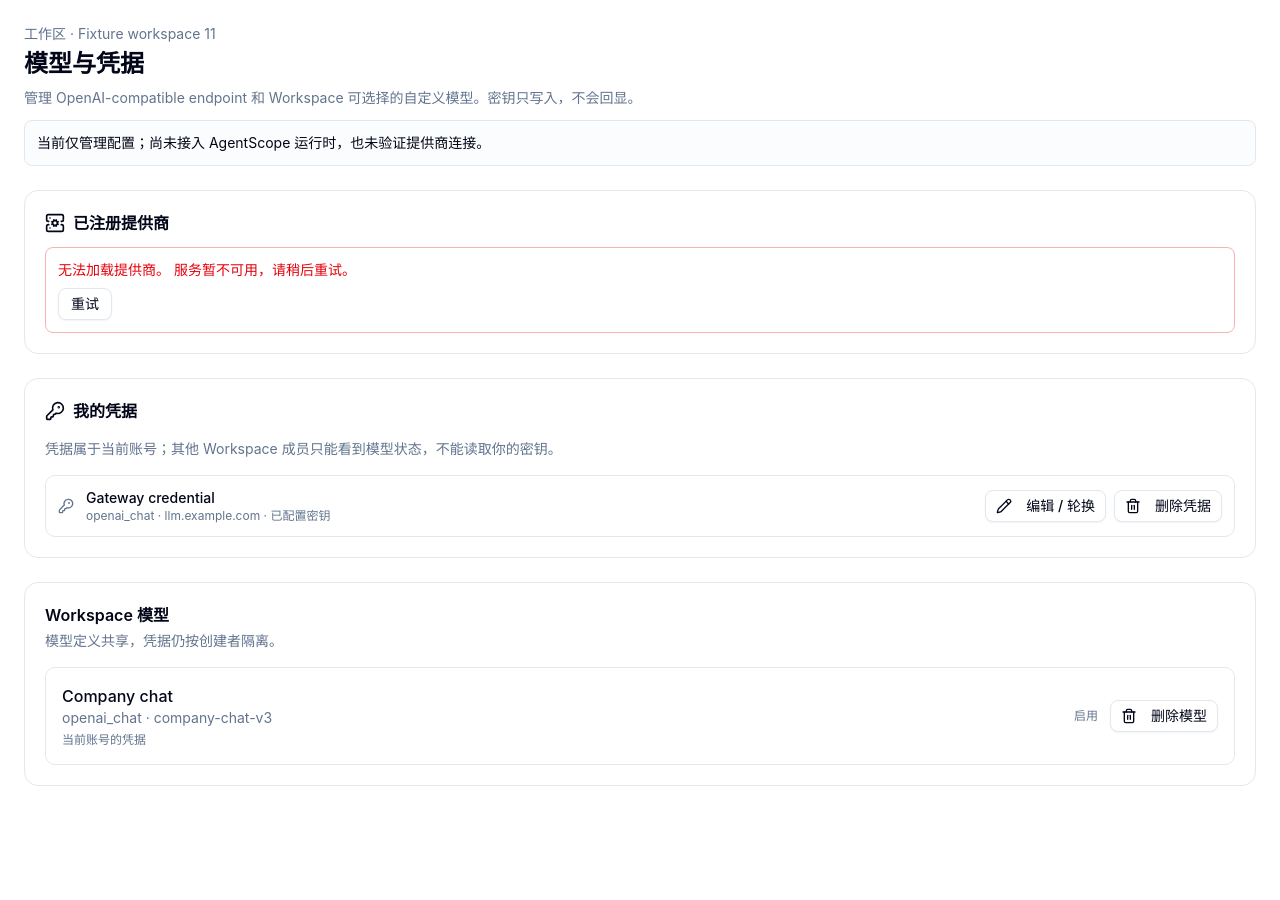
Workspace models page (browser with fixture HTTP API) › shows a retryable provider error instead of an empty provider section or enabled creation form
The width and height of the screenshot is (1280, 900).
Expected: the message reads "无法加载提供商。 服务暂不可用，请稍后重试。", [58,261,356,278]
Click the button "重试": coordinates (85, 304) [58,288,112,320]
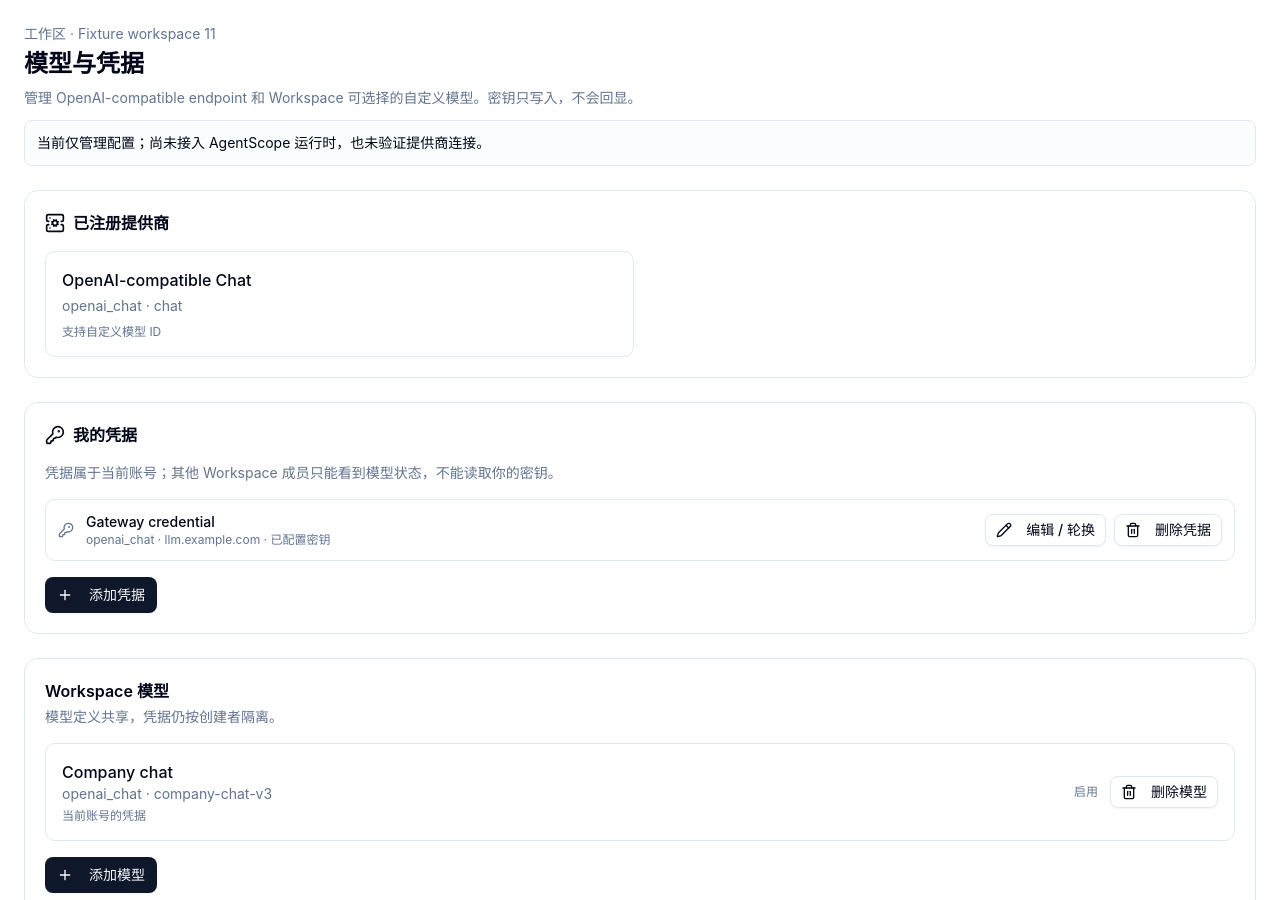
Result: the button "添加凭据" is shown
Click the button "添加凭据": coordinates (101, 595) [45,577,157,613]
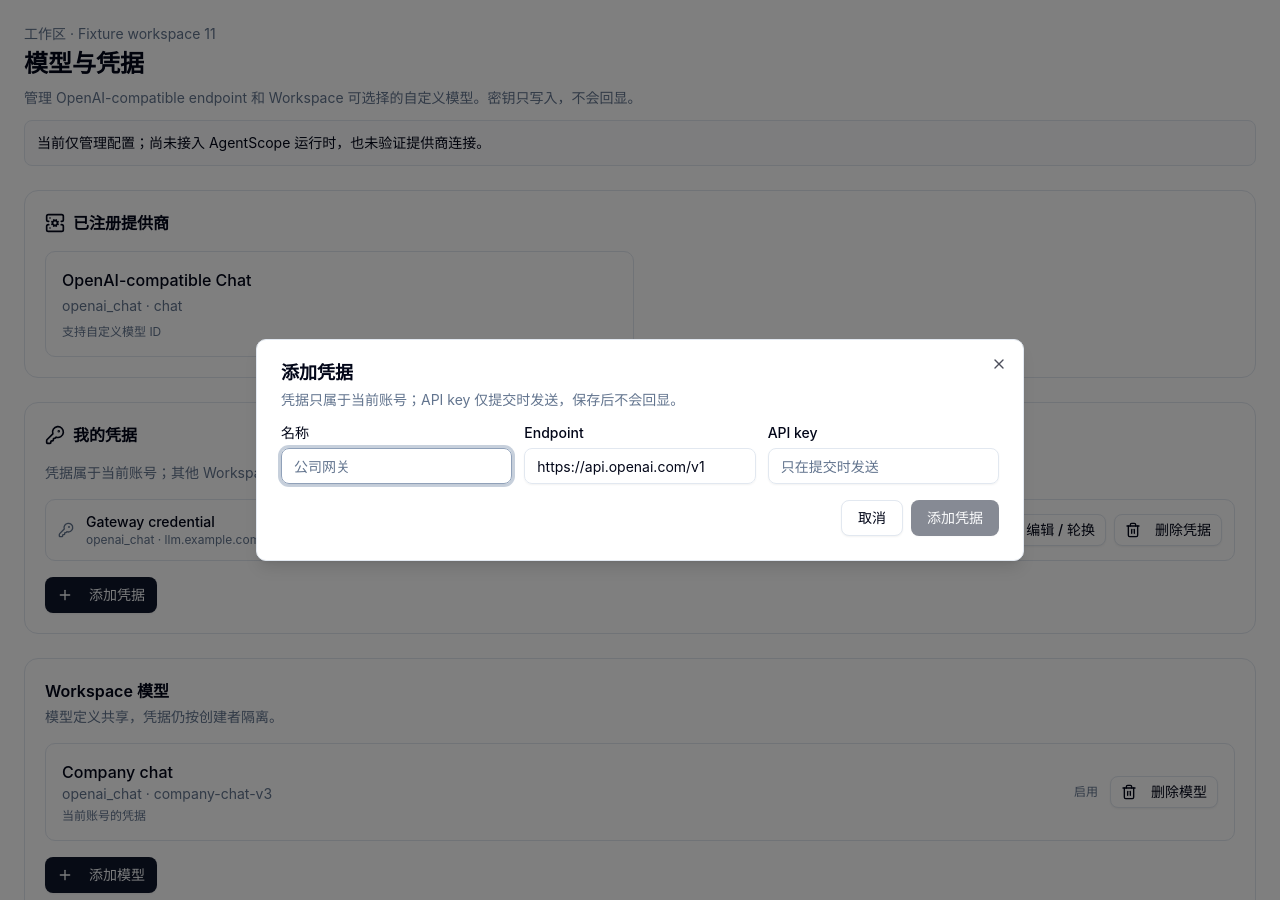
Expected: the text "当前仅管理配置；尚未接入 AgentScope 运行时，也未验证提供商连接。" is shown, [24,120,1256,166]
Result: the form "名称 Endpoint API key 取消 添加凭据" is shown at [281,426,999,536]
